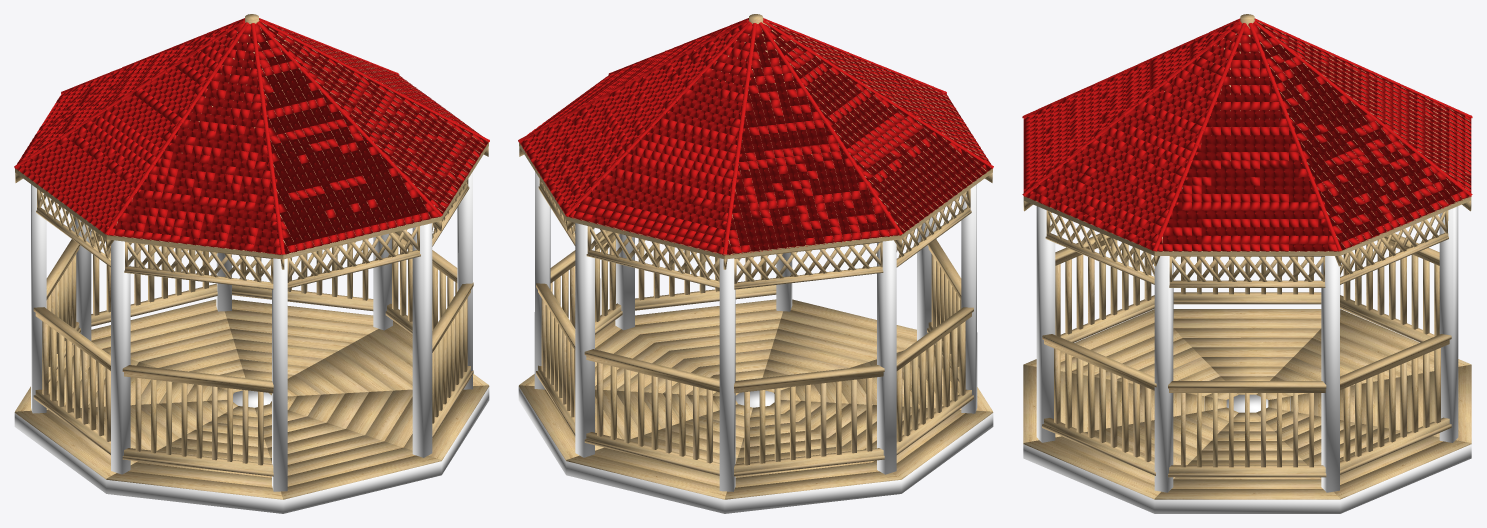
Rendered from Quiosco_optim.obj.
3 renders of one model, left to right at view 1: azimuth 30°, elevation 25°; view 2: azimuth 150°, elevation 25°; view 3: azimuth 270°, elevation 25°, orthographic.
Visible parts, largest first — view 1: Gazebo; view 2: Gazebo; view 3: Gazebo.
Part boxes in pixels (x1,y1,x2,y2): Gazebo: (14,14,489,513); Gazebo: (518,14,993,513); Gazebo: (1022,14,1472,513).
Bounding box in the file's own units: 4.64 × 4.57 × 4.64.
